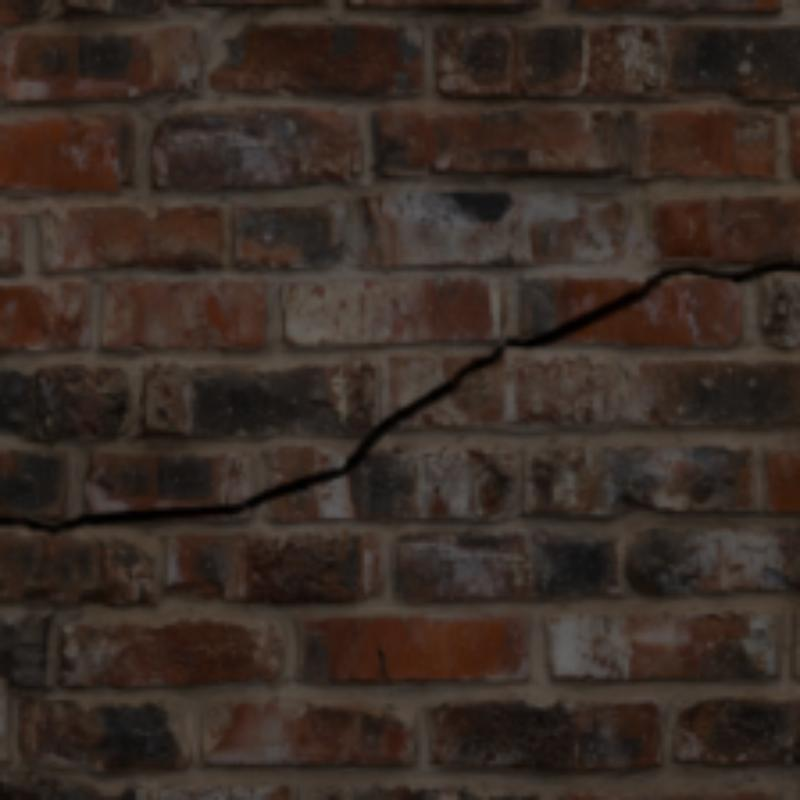crack: (0, 261, 796, 532)
